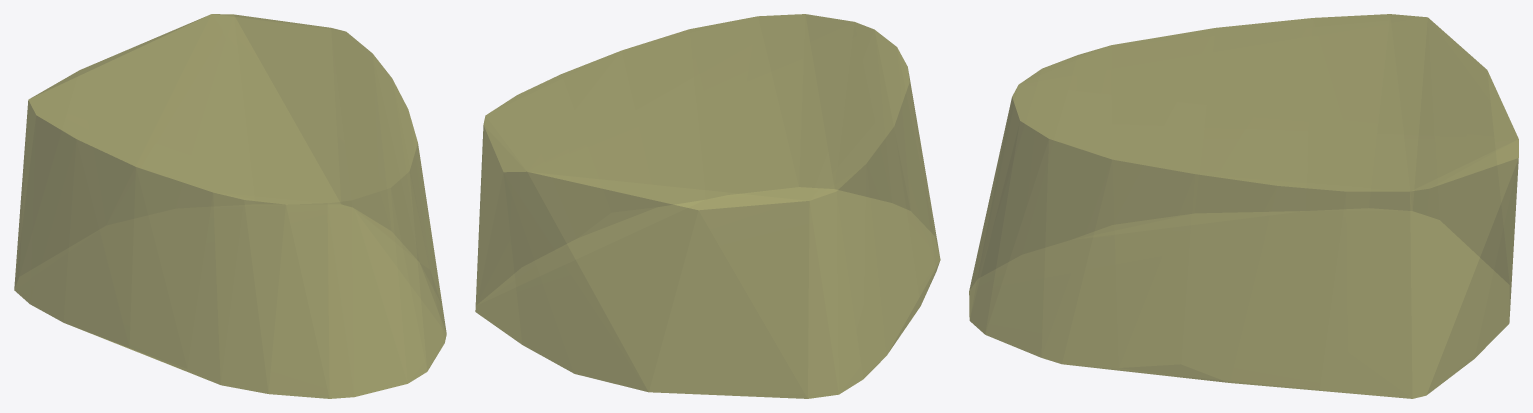
3 renders of one model, left to right at view 1: azimuth 30°, elevation 25°; view 2: azimuth 150°, elevation 25°; view 3: azimuth 270°, elevation 25°, orthographic. The views are drawn at different scales.
Visible parts, largest first — view 1: Shape_IndexedFaceSet.006_Shape_IndexedFaceSet.11084; view 2: Shape_IndexedFaceSet.006_Shape_IndexedFaceSet.11084; view 3: Shape_IndexedFaceSet.006_Shape_IndexedFaceSet.11084.
Part boxes in pixels (x1,y1,x2,y2): Shape_IndexedFaceSet.006_Shape_IndexedFaceSet.11084: (14,14,446,398); Shape_IndexedFaceSet.006_Shape_IndexedFaceSet.11084: (475,14,940,398); Shape_IndexedFaceSet.006_Shape_IndexedFaceSet.11084: (969,14,1518,398).
Size of the model in its own units: 0.44 by 0.2243 by 0.5384.
